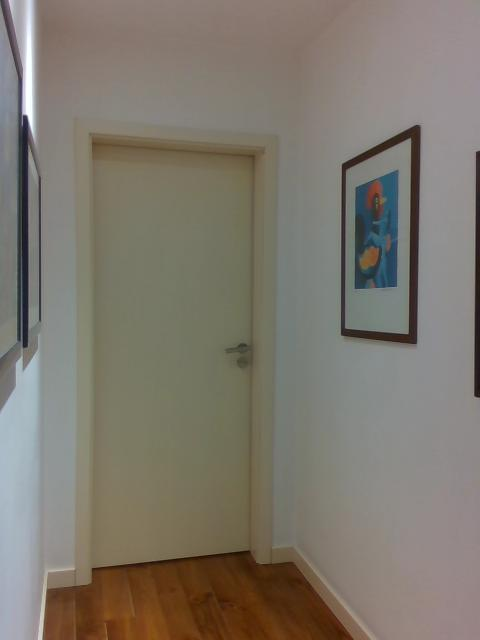door: (91, 144, 254, 569)
